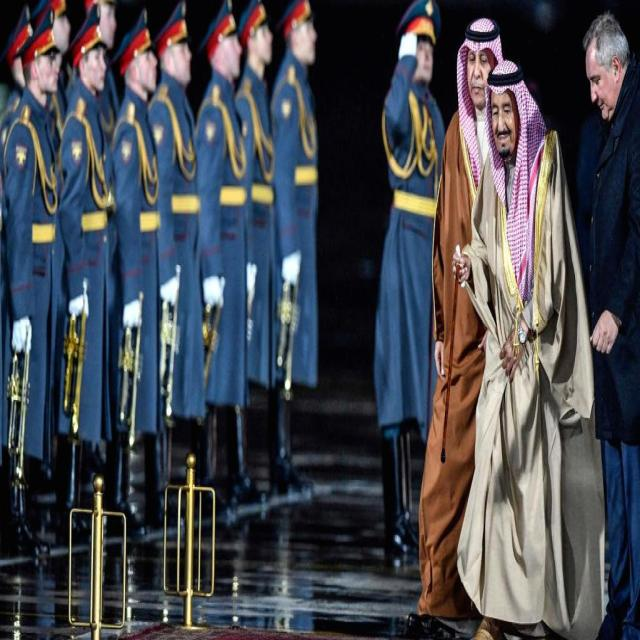body: (448, 55, 610, 639), (404, 15, 504, 639), (372, 0, 447, 572), (0, 1, 68, 566), (52, 4, 119, 554), (582, 9, 640, 640), (146, 0, 208, 530), (263, 0, 327, 508), (191, 0, 251, 516), (109, 4, 167, 536), (234, 0, 275, 500), (0, 2, 35, 176), (39, 0, 126, 51)
